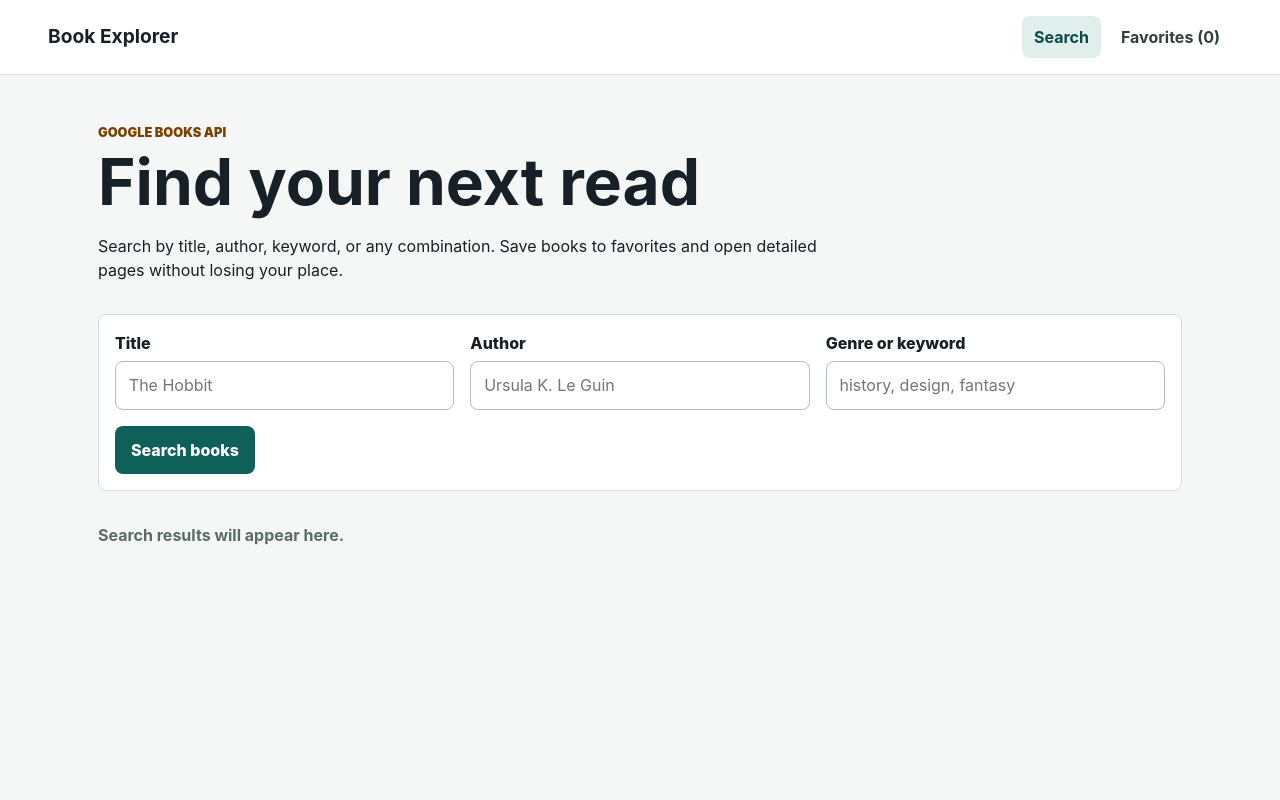
routing › navigates between search and favorites pages
Expected: the heading "Find your next read" is shown, [98,143,700,220]
Click the link "Favorites (0)": (1170, 37) [1121,27,1220,47]
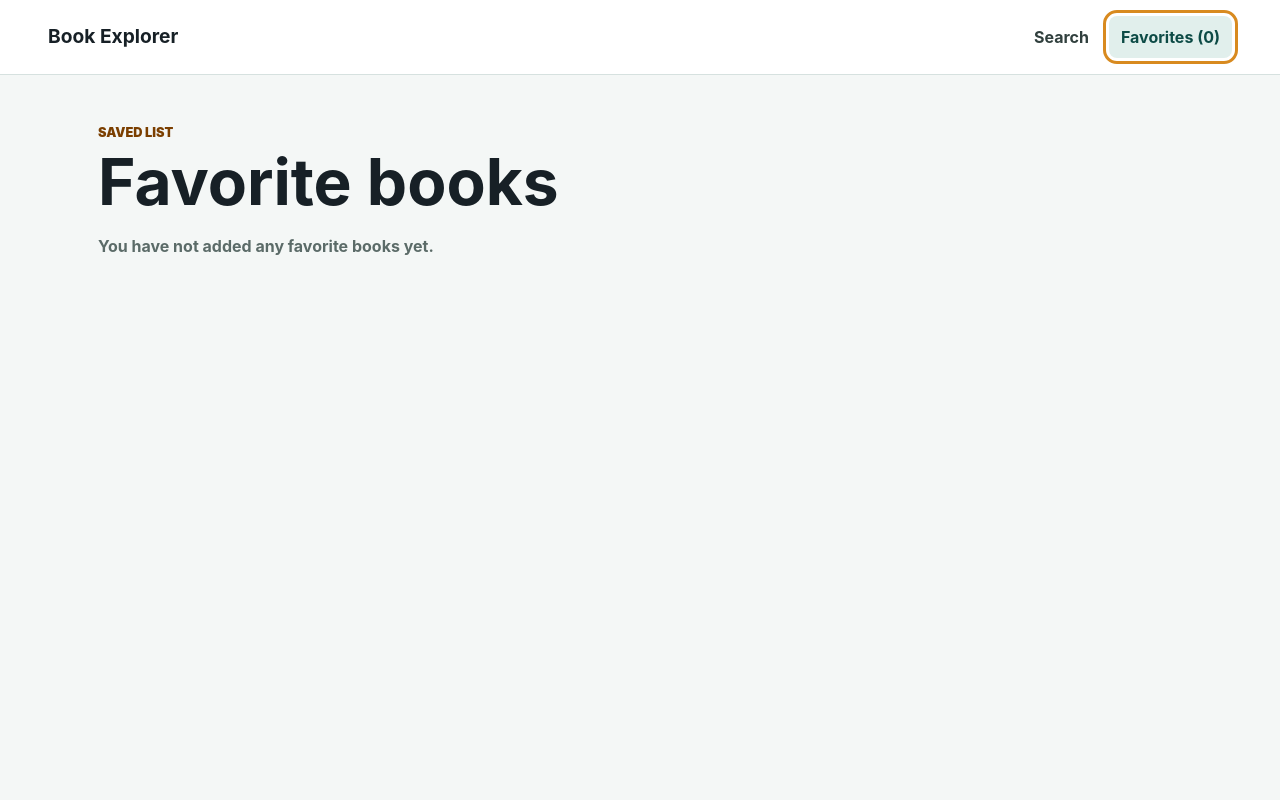
Expected: the heading "Favorite books" is shown, [98,143,559,220]
